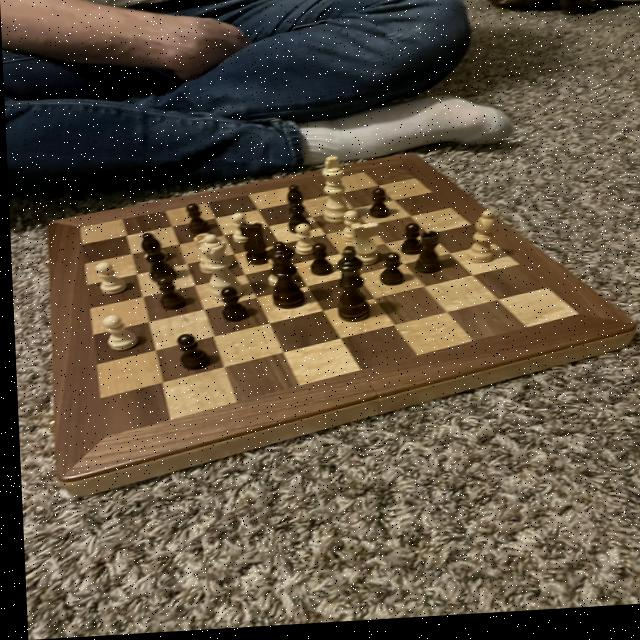bishop: (137, 232, 177, 288), (281, 185, 312, 241)
black-bishop: (330, 247, 371, 329)
black-king: (237, 224, 269, 271)
black-knight: (170, 334, 208, 377), (151, 276, 187, 317), (213, 287, 248, 327), (373, 256, 407, 292), (394, 223, 424, 262), (303, 245, 333, 282), (182, 204, 211, 238), (363, 191, 391, 226)
black-pawn: (264, 241, 304, 315)
black-queen: (408, 233, 445, 282)
black-rook: (460, 214, 497, 272)
white-bishop: (316, 157, 349, 230)
white-king: (346, 224, 379, 273)
white-knight: (97, 313, 136, 355), (90, 261, 126, 298), (333, 212, 362, 249), (289, 224, 316, 261), (227, 214, 250, 250), (259, 258, 283, 291)
white-pawn: (191, 233, 244, 307)
white-queen: (190, 234, 213, 277)
